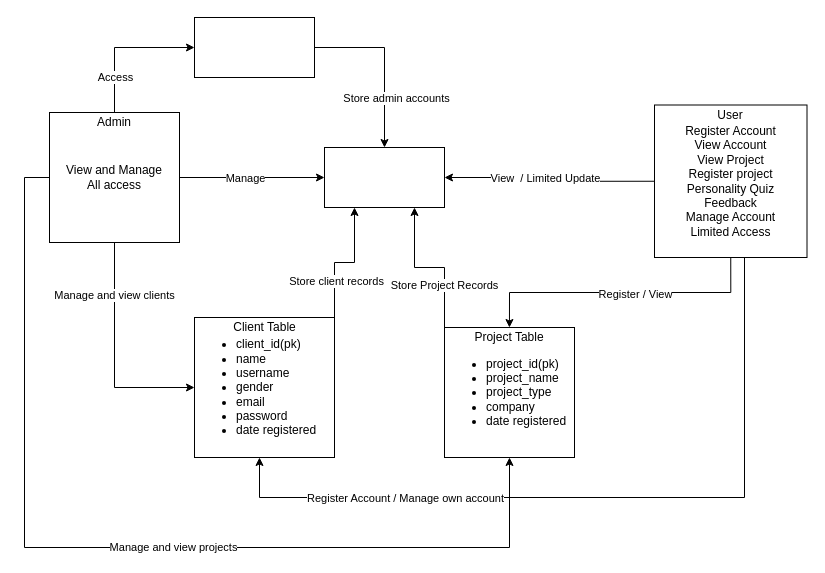
Some shapes in this 825 by 573 pixel diagram are drawn without their labels. Each missing label, with the centre of its shape:
"Admin Accounts" goes at point (254, 47).
"KF.Sheesh Database" goes at point (384, 177).
